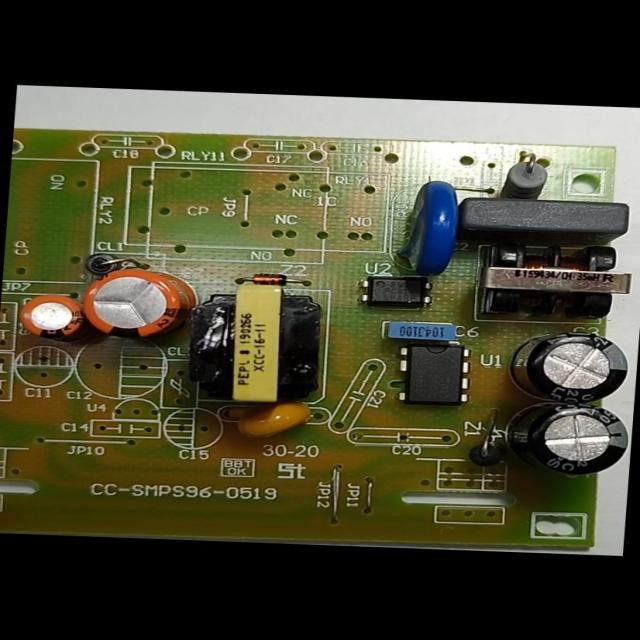Cap1: (78, 266, 193, 340)
Cap2: (18, 294, 80, 339)
Cap3: (508, 329, 632, 404)
Cap4: (505, 401, 633, 478)
MOSFET: (394, 342, 474, 403)
Mov: (400, 178, 464, 276)
Resistor: (496, 150, 554, 200)
Transformer: (187, 279, 331, 407), (475, 240, 636, 326)
